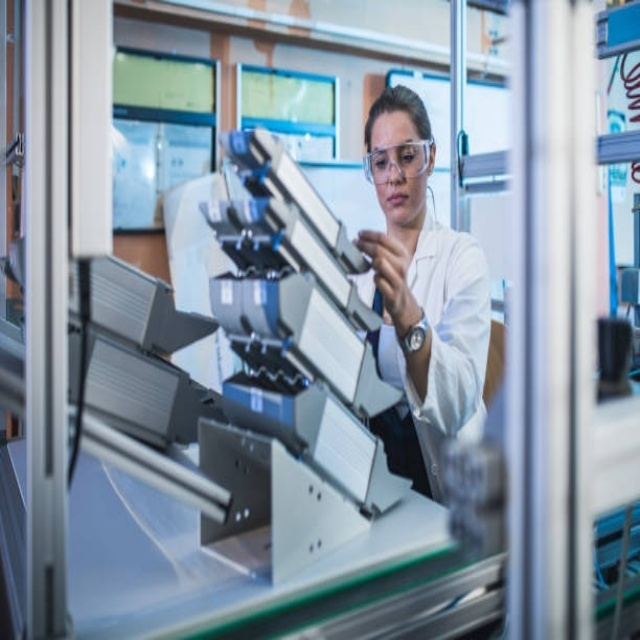Gafas: (363, 139, 432, 185)
Sin_guantes: (353, 228, 415, 318)
Sin_mascara: (382, 187, 415, 229)
